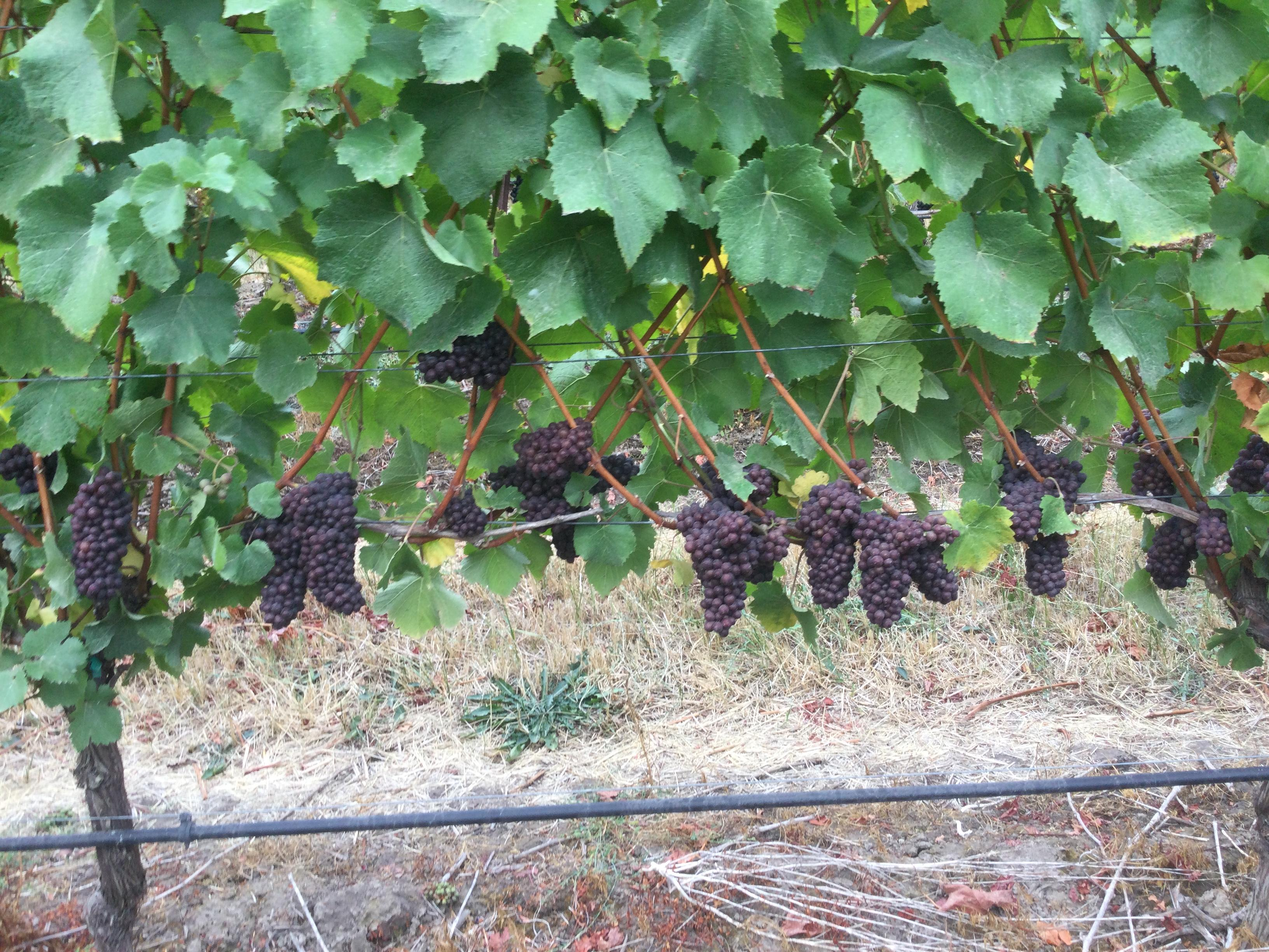leaf: (400, 52, 548, 204), (313, 183, 462, 329), (548, 104, 682, 265), (1064, 102, 1211, 246), (715, 145, 844, 288), (932, 212, 1064, 341), (912, 24, 1071, 130), (17, 175, 121, 335), (499, 205, 628, 332), (858, 83, 994, 199), (17, 0, 121, 141), (656, 0, 781, 96), (1150, 0, 1268, 95), (421, 0, 554, 83), (0, 79, 78, 217), (260, 0, 377, 89), (1088, 278, 1183, 385), (130, 273, 237, 363), (846, 312, 922, 424), (221, 51, 302, 149), (0, 298, 97, 376), (1033, 82, 1104, 188), (407, 273, 503, 351), (10, 378, 107, 454), (571, 37, 650, 130), (1035, 350, 1118, 435), (336, 110, 423, 187), (373, 564, 465, 636), (278, 126, 354, 211), (163, 20, 251, 89), (875, 401, 963, 464), (1190, 239, 1268, 310), (584, 525, 655, 596), (944, 500, 1013, 571), (253, 330, 317, 402), (353, 23, 421, 87), (21, 622, 87, 682), (425, 215, 493, 273), (663, 84, 720, 151), (801, 7, 861, 69), (68, 681, 121, 750), (460, 545, 529, 597), (929, 0, 1007, 44), (1123, 568, 1176, 627), (1061, 0, 1123, 48), (1205, 620, 1263, 670), (217, 535, 274, 585), (42, 532, 77, 607), (747, 581, 798, 632), (575, 524, 636, 565), (1234, 130, 1268, 202), (132, 433, 182, 474), (1039, 495, 1077, 534), (247, 480, 281, 518), (0, 664, 28, 710), (920, 30, 931, 38), (1240, 154, 1242, 173), (403, 182, 409, 187), (974, 0, 982, 3), (578, 527, 581, 532), (393, 457, 395, 462), (0, 208, 2, 210), (425, 122, 427, 124), (750, 485, 751, 488), (1156, 595, 1157, 597), (584, 556, 584, 557), (592, 527, 598, 527), (0, 177, 2, 177), (390, 462, 390, 466), (406, 438, 407, 438)
